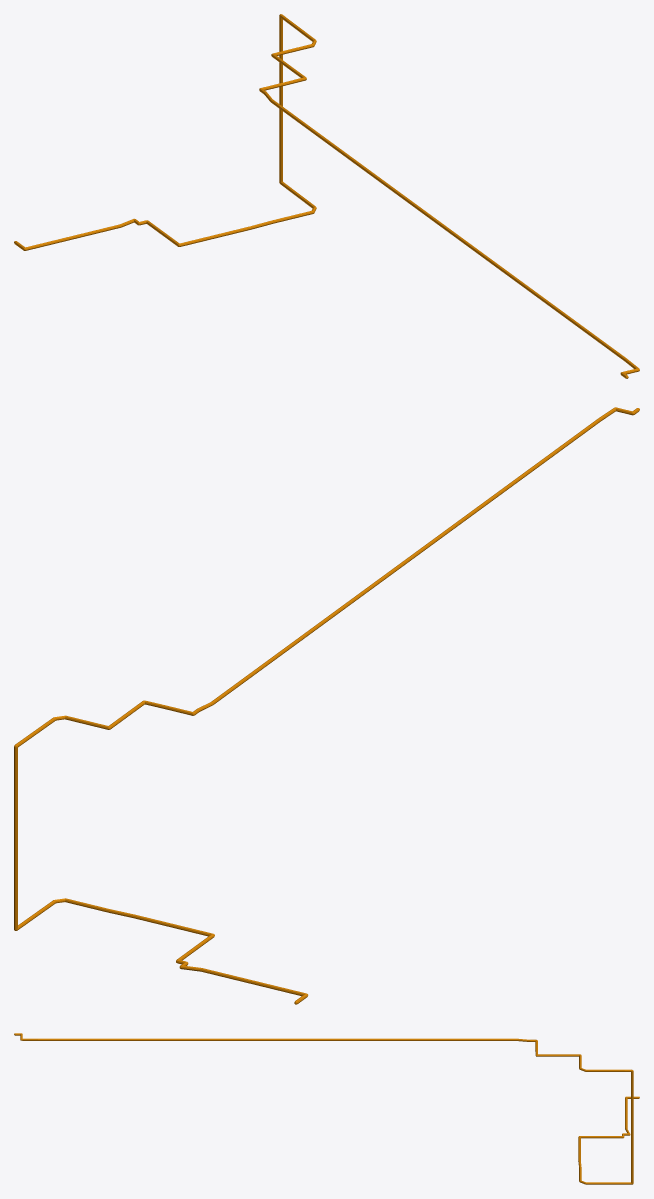
3 renders of one model, top to bottom at view 1: azimuth 30°, elevation 25°; view 2: azimuth 150°, elevation 25°; view 3: azimuth 270°, elevation 25°, orthographic. The views are drawn at different scales.
Size of the model in its own units: 1655 by 1020 by 5037.
